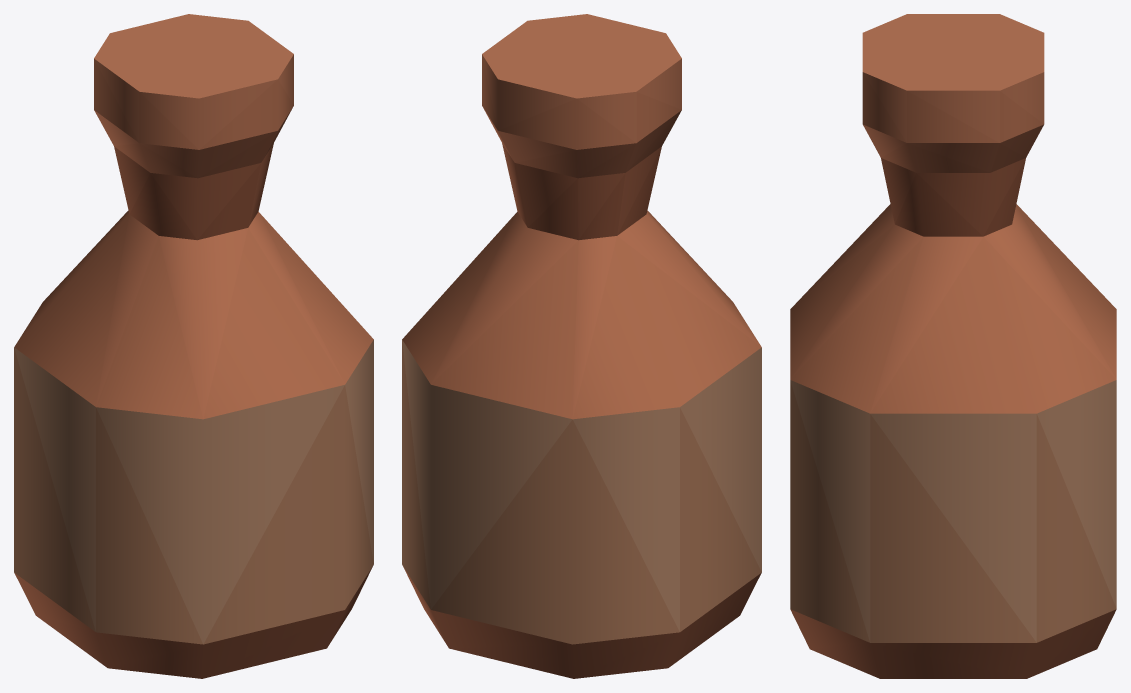
The model's file is pirate_bottle_large.glb.
3 renders of one model, left to right at view 1: azimuth 30°, elevation 25°; view 2: azimuth 150°, elevation 25°; view 3: azimuth 270°, elevation 25°, orthographic.
Parts seen in each view (by area): view 1: pirate_bottle_large; view 2: pirate_bottle_large; view 3: pirate_bottle_large.
Part boxes in pixels (x1,y1,x2,y2): pirate_bottle_large: [14, 14, 373, 678]; pirate_bottle_large: [402, 14, 761, 678]; pirate_bottle_large: [790, 14, 1116, 678].
Bounding box in the file's own units: 0.4658 × 0.8905 × 0.4658.
